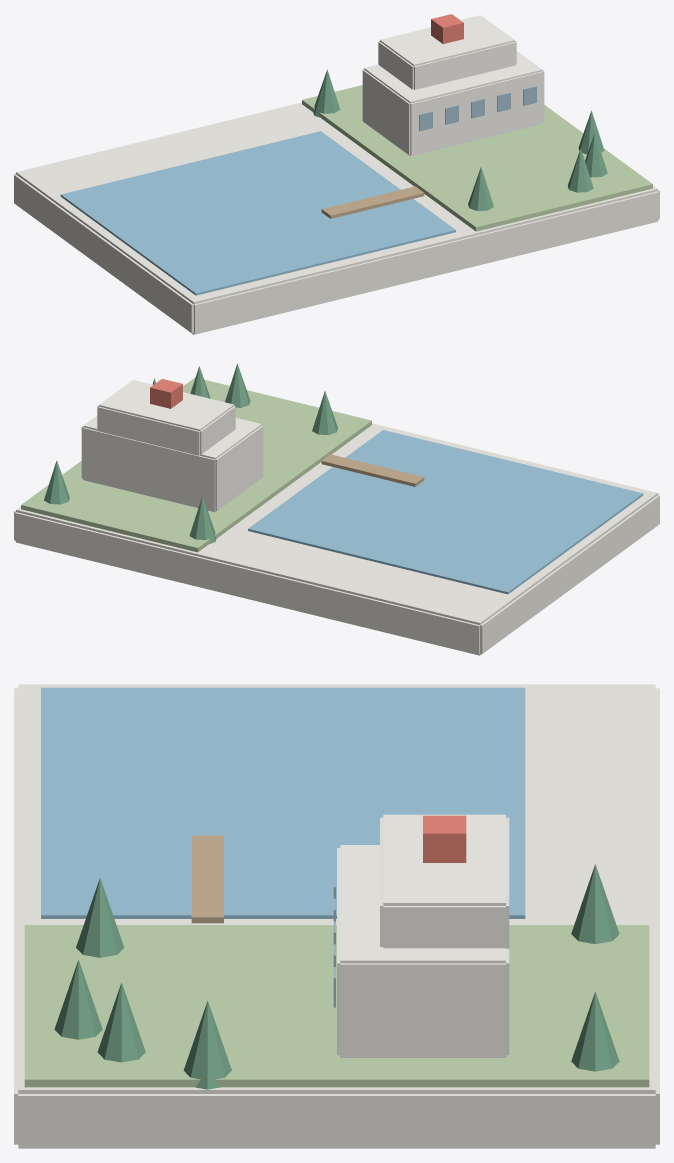
File: maqueta_hotel.glb
3 renders of one model, top to bottom at view 1: azimuth 30°, elevation 25°; view 2: azimuth 150°, elevation 25°; view 3: azimuth 270°, elevation 25°, orthographic. The views are drawn at different scales.
Parts seen in each view (by area): view 1: maqueta_hotel; view 2: maqueta_hotel; view 3: maqueta_hotel.
Part boxes in pixels (bbox=[...]): maqueta_hotel: bbox=[14, 14, 659, 334]; maqueta_hotel: bbox=[14, 363, 659, 655]; maqueta_hotel: bbox=[14, 684, 659, 1148].
Bounding box in the file's own units: 0.9 × 0.25 × 0.6.
